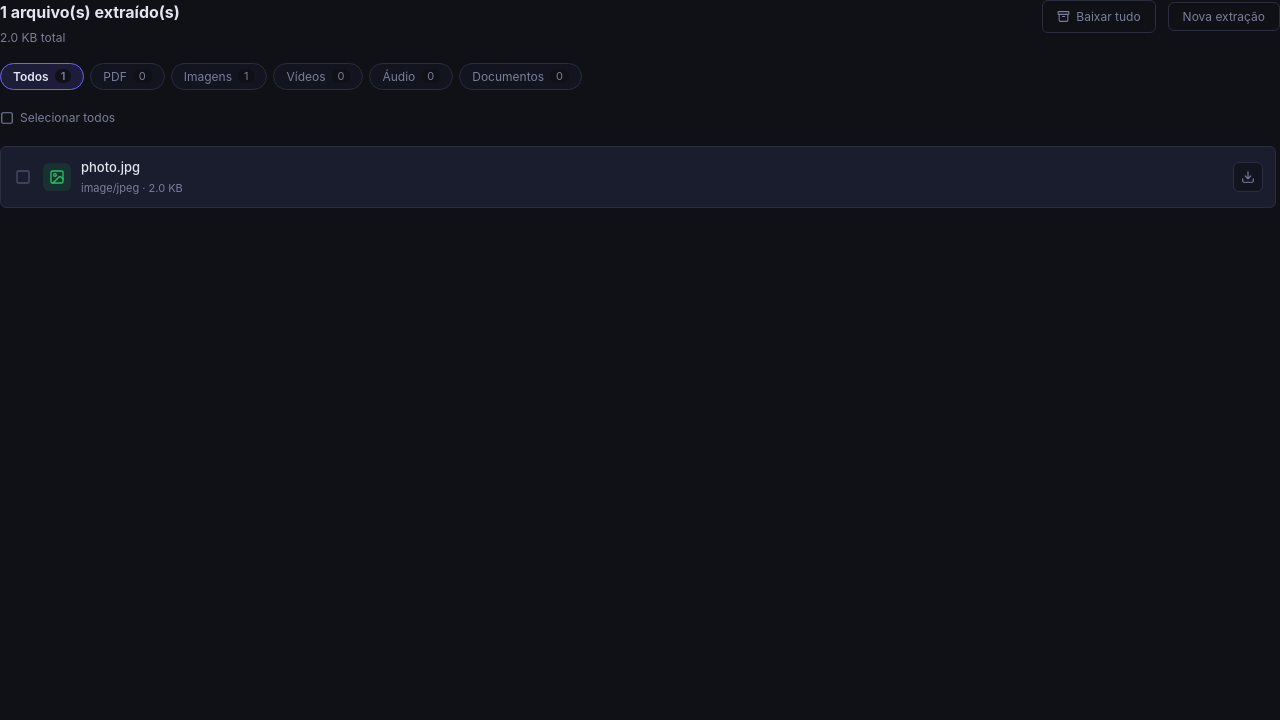
preview modal accessibility › closes on Escape
Click the button with aria-label "Pré-visualizar arquivo". click: [111, 167]
box: [81, 157, 1223, 197]
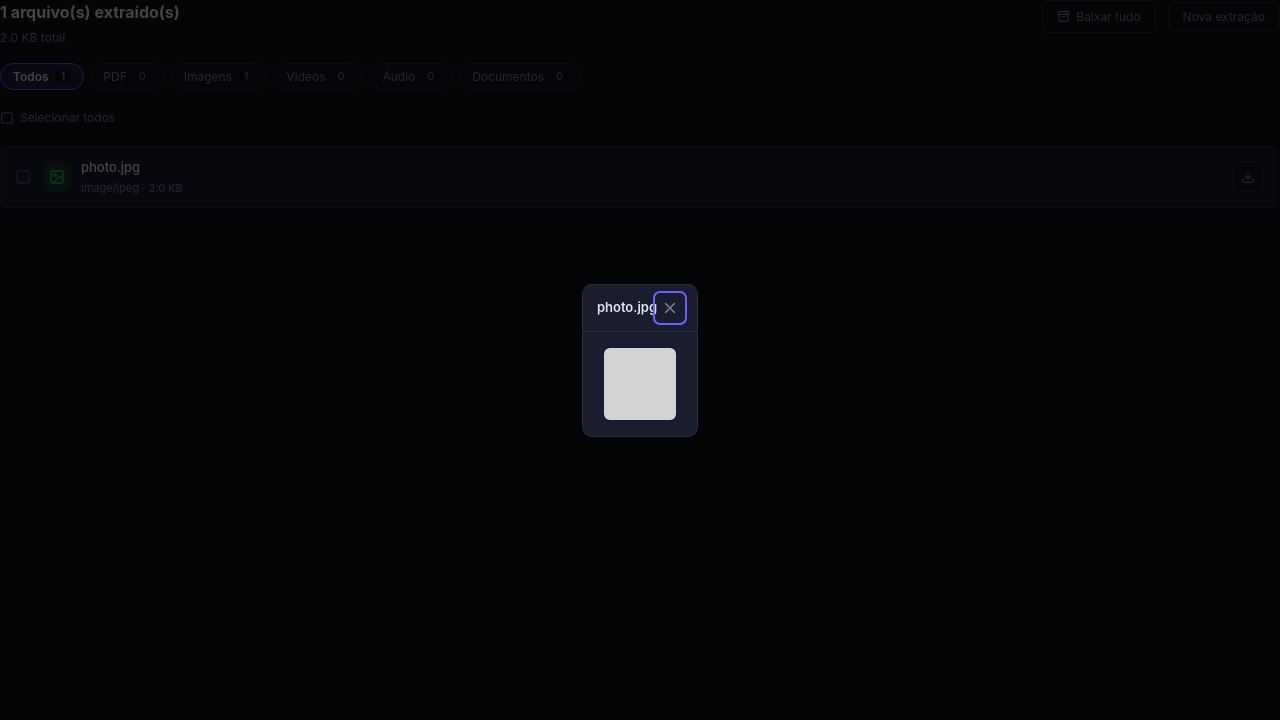
Now the dialog is shown, box [582, 284, 698, 436]
Press Escape
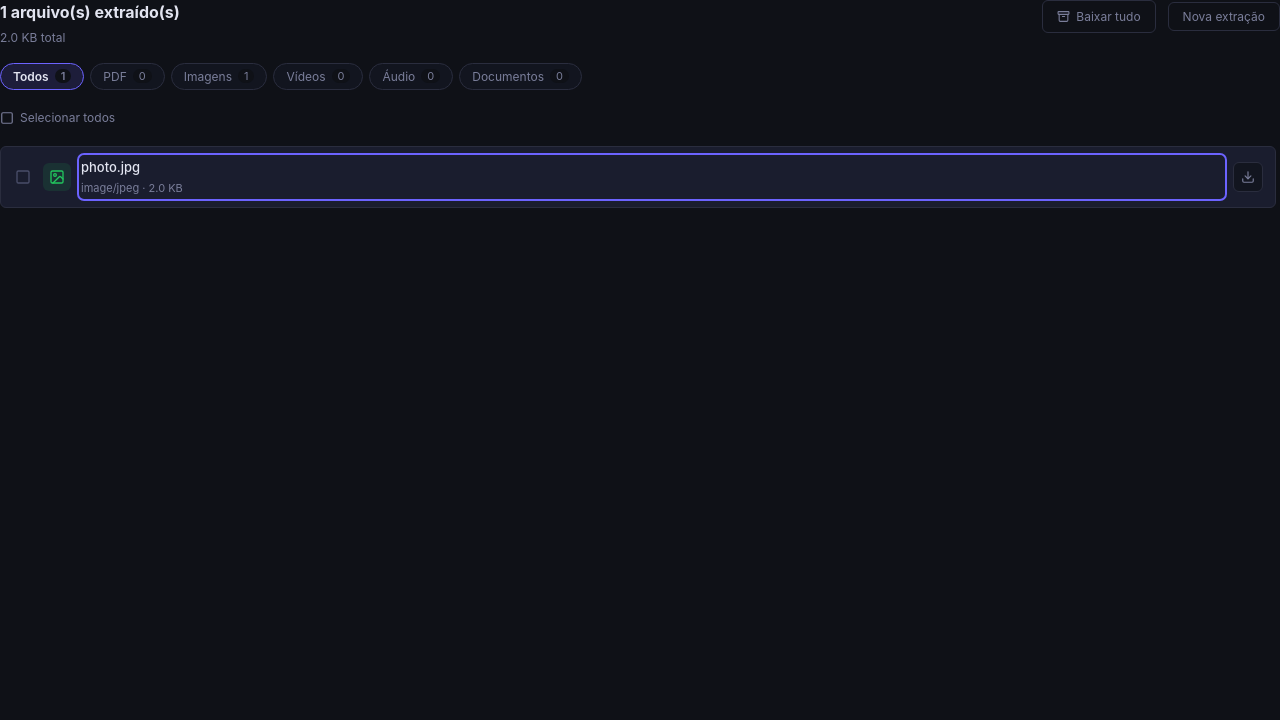
Now the dialog is gone
